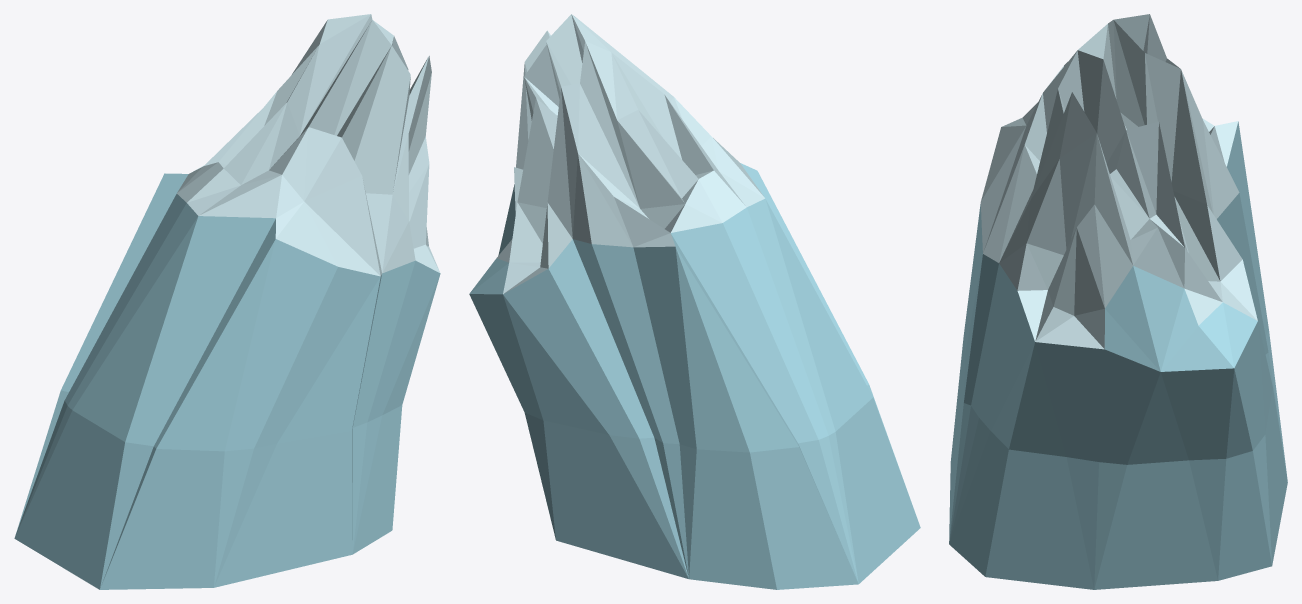
Rendered from sharp_rock_9.fbx.
3 views of the same model, side by side, from view 1: azimuth 30°, elevation 25°; view 2: azimuth 150°, elevation 25°; view 3: azimuth 270°, elevation 25° (orthographic). The views are drawn at different scales.
Parts seen in each view (by area): view 1: sharp_rock_9; view 2: sharp_rock_9; view 3: sharp_rock_9.
Boxes of the visible parts, x1=… form: sharp_rock_9: x1=14, y1=14, x2=440, y2=589; sharp_rock_9: x1=469, y1=14, x2=920, y2=589; sharp_rock_9: x1=949, y1=14, x2=1287, y2=589.
Size of the model in its own units: 398 by 470 by 251.
